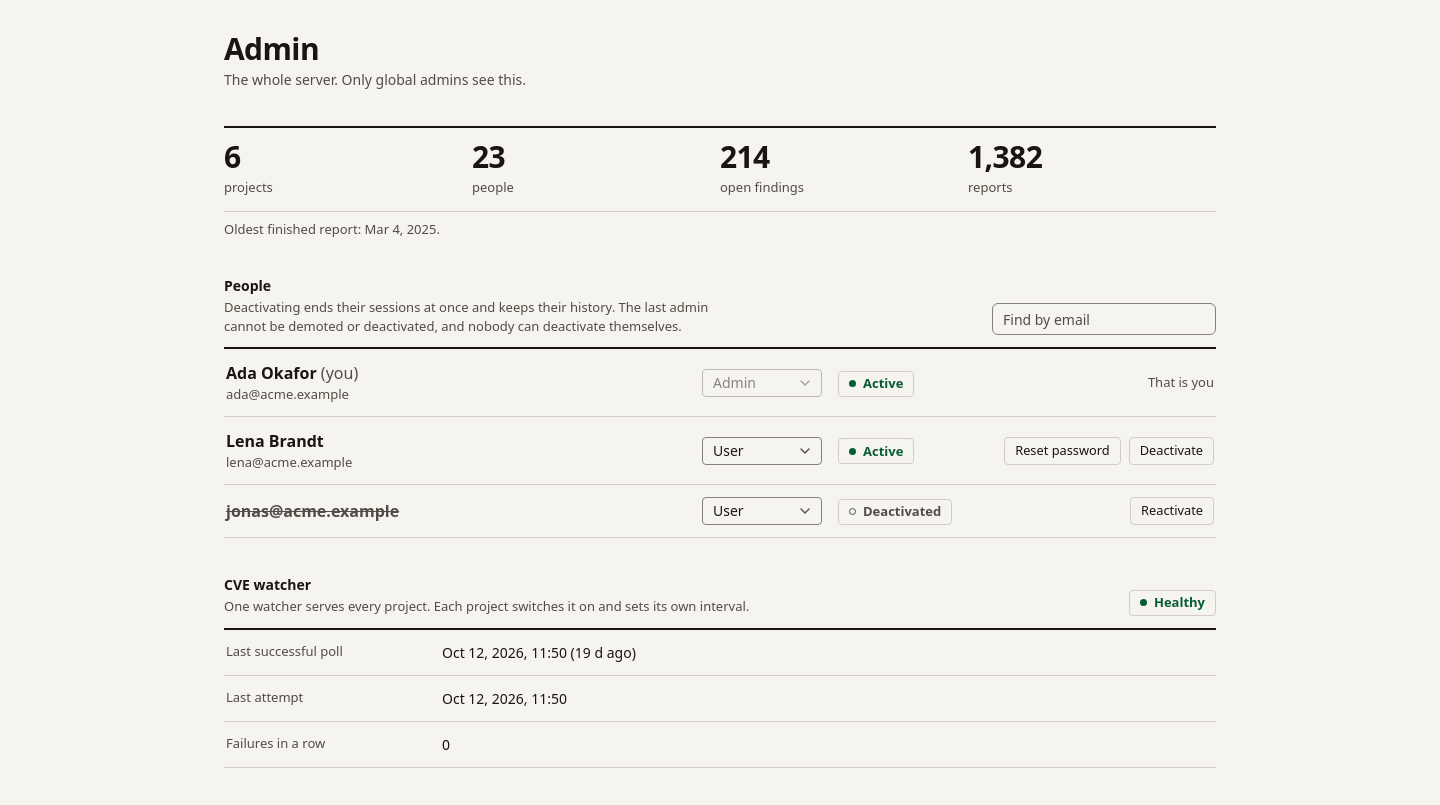
Test: Admin › people › issues a reset link, shows it once with its expiry, and never for yourself or a deactivated account
Click the button with aria-label "Reset password for Lena Brandt" at x=1062, y=451, box left=1004, top=437, right=1121, bottom=465
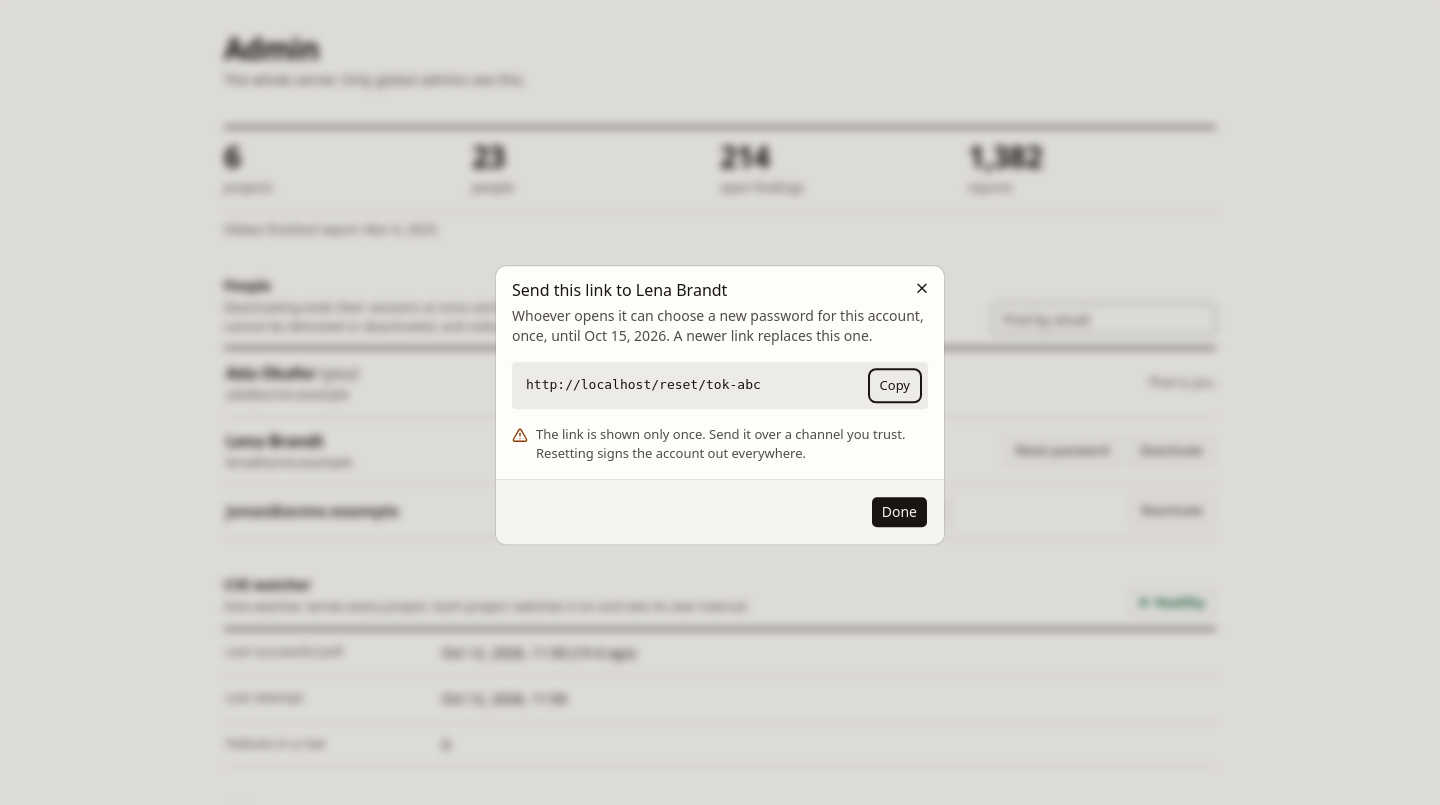
Check: the text "shown only once" is shown, box left=536, top=425, right=906, bottom=462
Click the button "Done" at x=899, y=512, box left=871, top=496, right=928, bottom=528
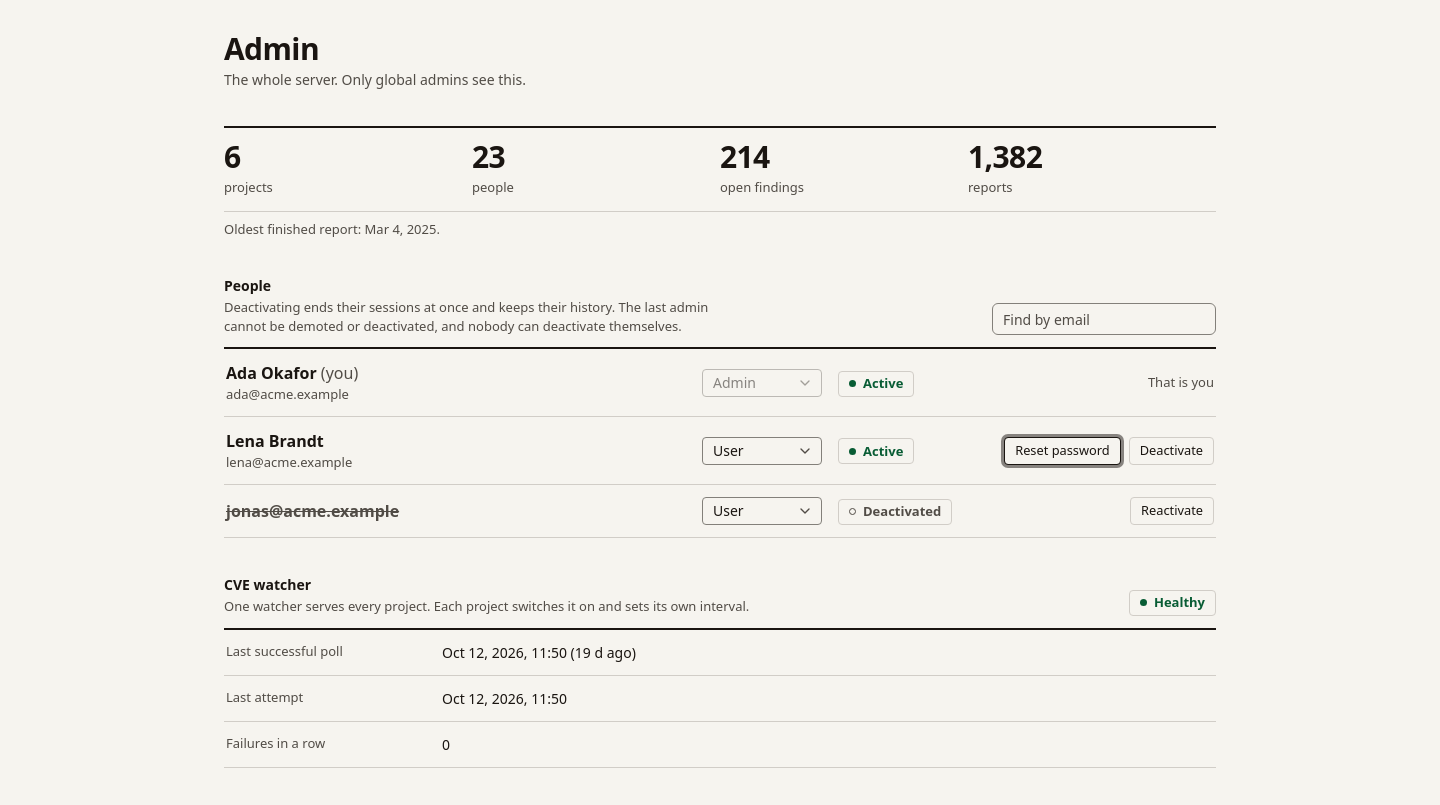
Check: the dialog is gone
